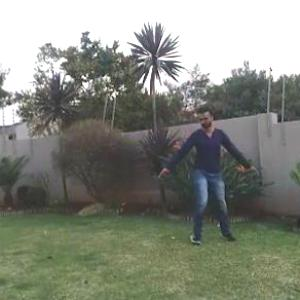land: (136, 98, 264, 255)
